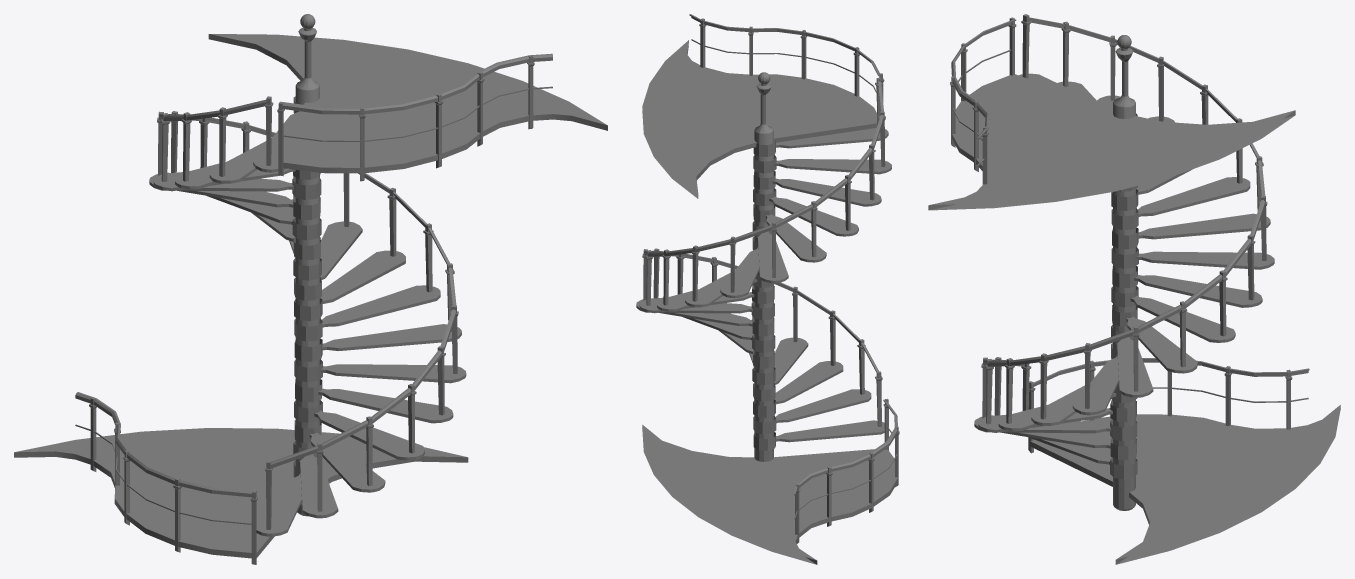
Rendered from tesla_structure_stairs_01.dae.
3 views of the same model, side by side, from view 1: azimuth 30°, elevation 25°; view 2: azimuth 150°, elevation 25°; view 3: azimuth 270°, elevation 25° (orthographic). The views are drawn at different scales.
Visible parts, largest first — view 1: polySurface138; view 2: polySurface138; view 3: polySurface138.
Boxes of the visible parts, left/top/right/bottom form: polySurface138: left=14, top=14, right=607, bottom=564; polySurface138: left=636, top=14, right=899, bottom=564; polySurface138: left=928, top=14, right=1340, bottom=564.
Bounding box in the file's own units: 7500 × 9473 × 7500.
